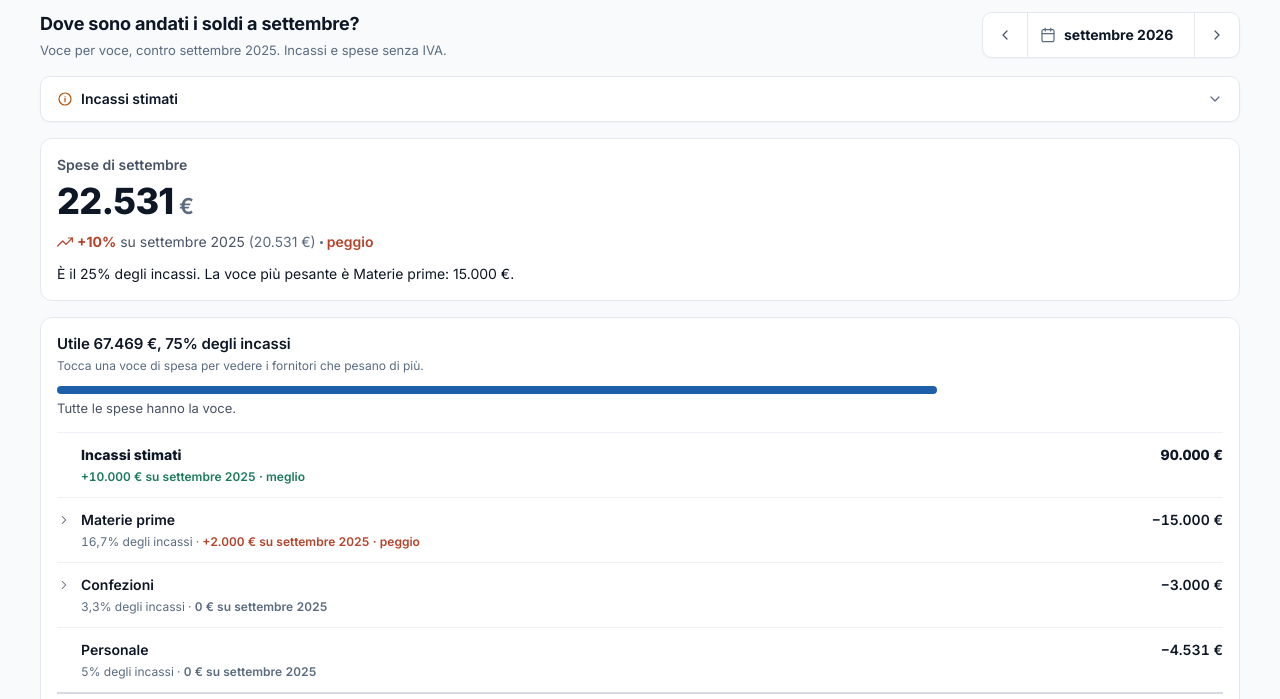
Test: Il conto al telefono (difetto CE1) › la scheda intera si tocca per aprire i fornitori, ed è alta almeno 44 px
What coordinates should you click on to do the following:
click the button that starts with "Materie prime"
I would click on:
 (128, 520)
Its box is [57,498,1223,562].
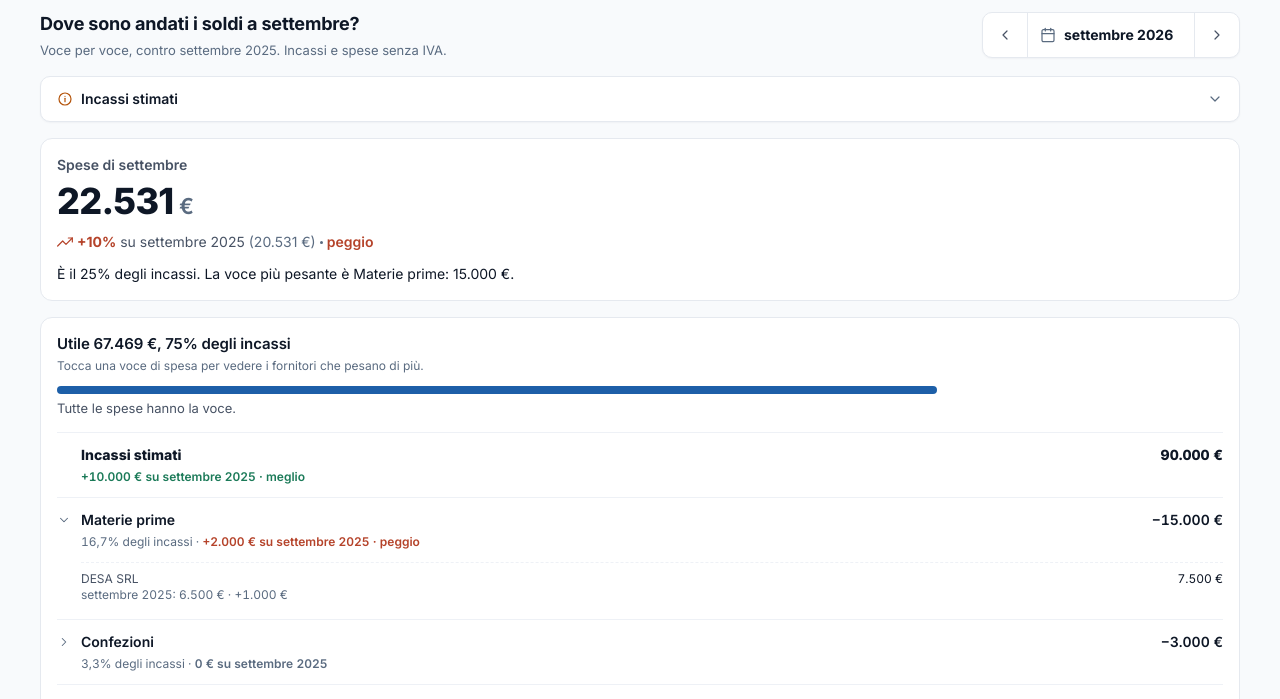
Check: the text "DESA SRL" is shown, box [81,571,138,586]
Check: the text "7.500 €" is shown, box [1177,571,1223,587]
